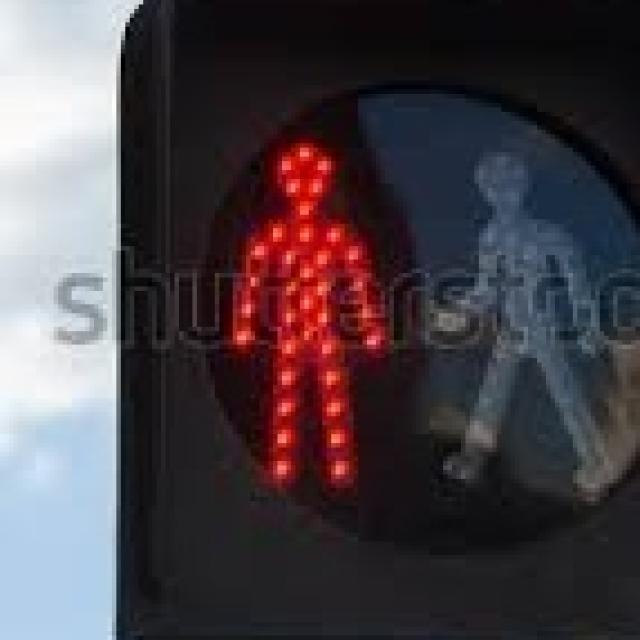red_light: (202, 112, 398, 506)
